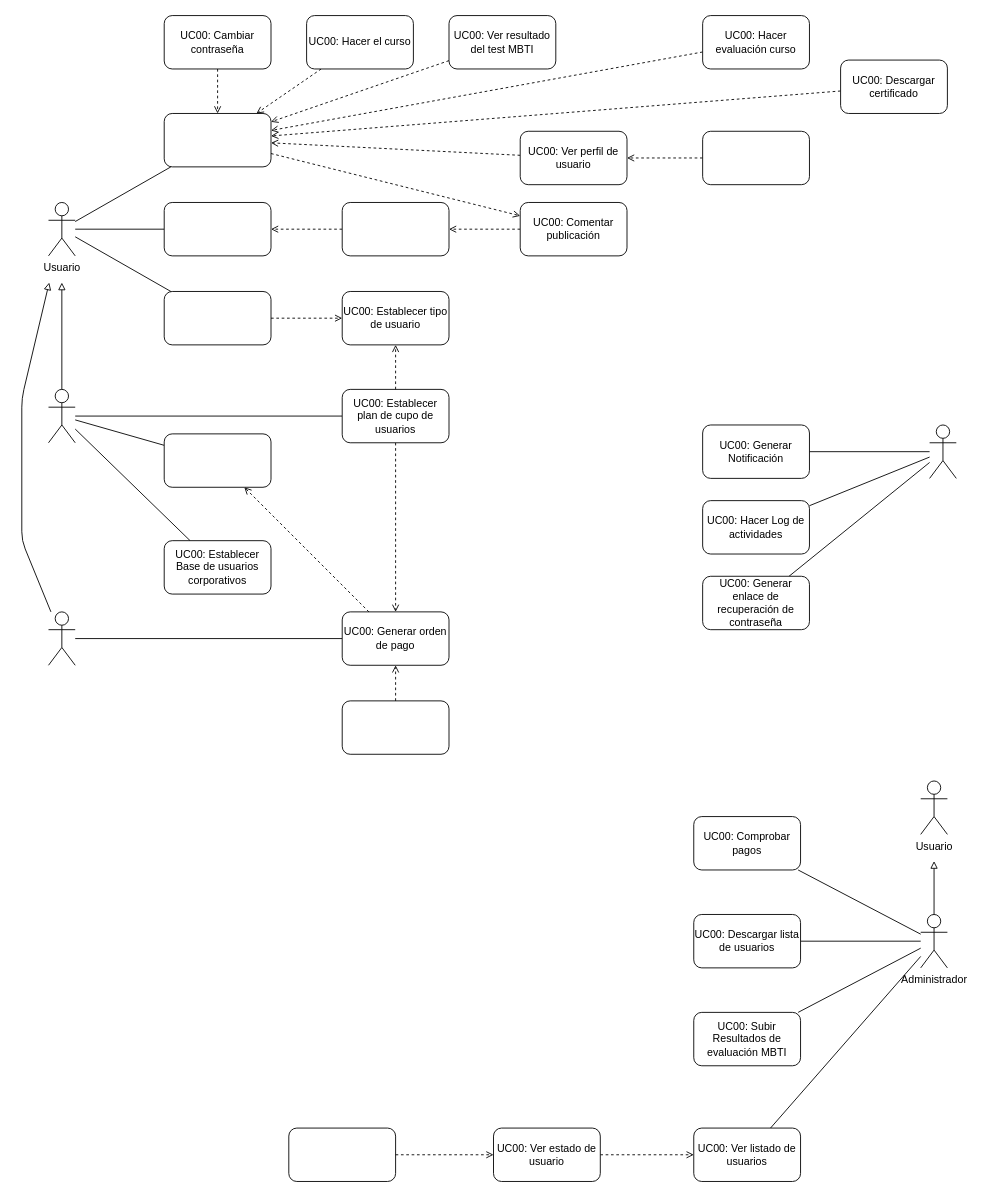
The diagram is 983 pixels wide and 1197 high, and some of its shapes have lost their labels. The centre of each missing label's shape, as x and y in pixels:
"Corporativo" goes at point (61, 415).
"Natural" goes at point (61, 638).
"Sistema" goes at point (942, 451).
"UC00: Cambiar Roles" goes at point (342, 1154).
"UC00: Editar perfil de usuario" goes at point (755, 157).
"UC00: Establecer acuerdo de pago" goes at point (217, 460).
"UC00: Realizar pago" goes at point (395, 727).
"UC00: Registrar cuenta de usuario" goes at point (217, 318).
"UC00: Ver publicaciones del blog" goes at point (217, 229).
"UC00: Ver publicación específica" goes at point (395, 229).
"UC0: Iniciar sesión" goes at point (217, 140).
